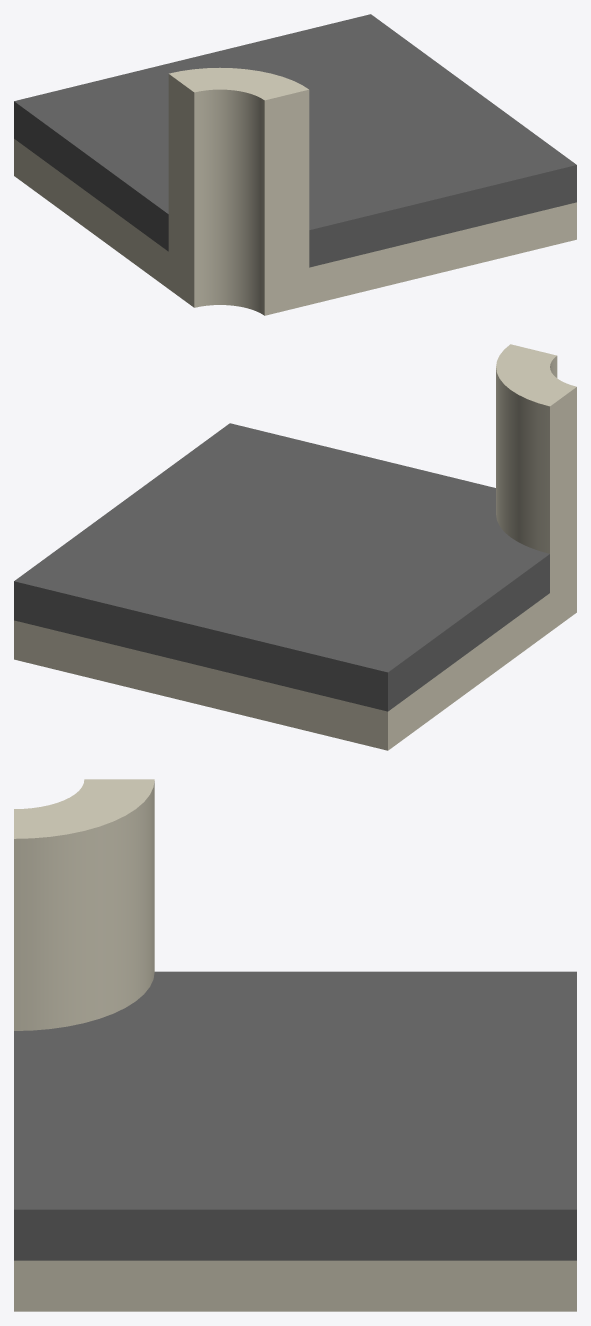
File: tile246.dae
3 views of the same model, one above another, from view 1: azimuth 30°, elevation 25°; view 2: azimuth 150°, elevation 25°; view 3: azimuth 270°, elevation 25° (orthographic). The views are drawn at different scales.
Parts seen in each view (by area): view 1: tile246; view 2: tile246; view 3: tile246.
Part boxes in pixels (box(x1,y1,x2,y2)): tile246: box(14, 14, 576, 315); tile246: box(14, 344, 576, 750); tile246: box(14, 779, 576, 1311).
Bounding box in the file's own units: 1 × 0.5767 × 1.
